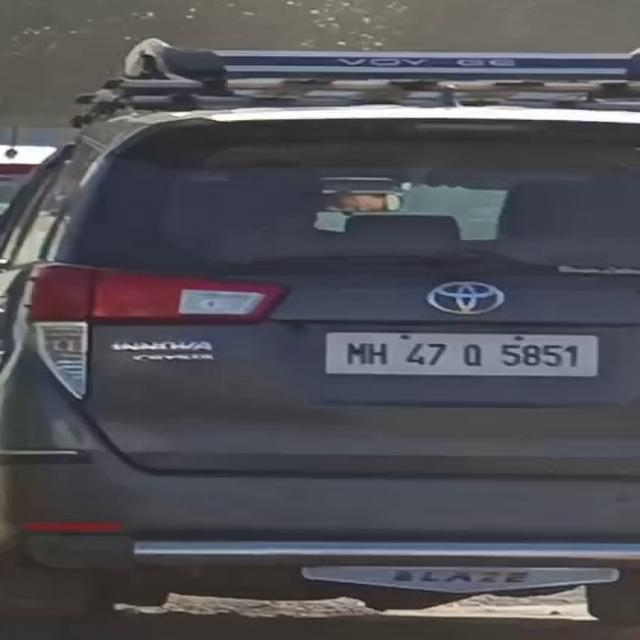Plate: (321, 330, 599, 378)
